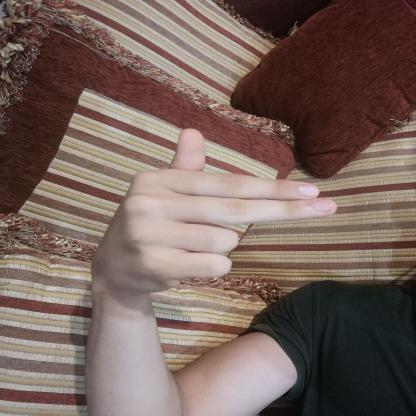GHAYN: (78, 122, 352, 308)
